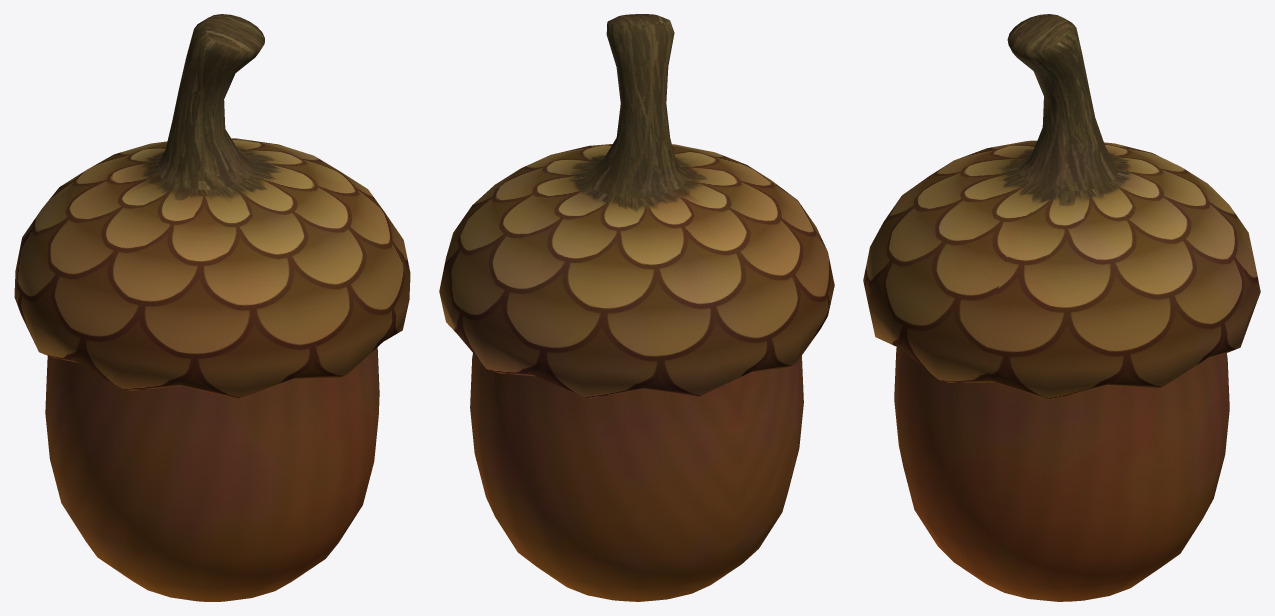
File: acorn_interactable.fbx
The picture shows the model from 3 angles, left to right: view 1: azimuth 30°, elevation 25°; view 2: azimuth 150°, elevation 25°; view 3: azimuth 270°, elevation 25°; orthographic projection.
Visible parts, largest first — view 1: acorn_interactable; view 2: acorn_interactable; view 3: acorn_interactable.
Boxes of the visible parts, <box> form: acorn_interactable: <box>14,14,410,601</box>; acorn_interactable: <box>439,14,834,601</box>; acorn_interactable: <box>863,14,1260,601</box>.
Bounding box in the file's own units: 30.87 × 48.87 × 30.87.
